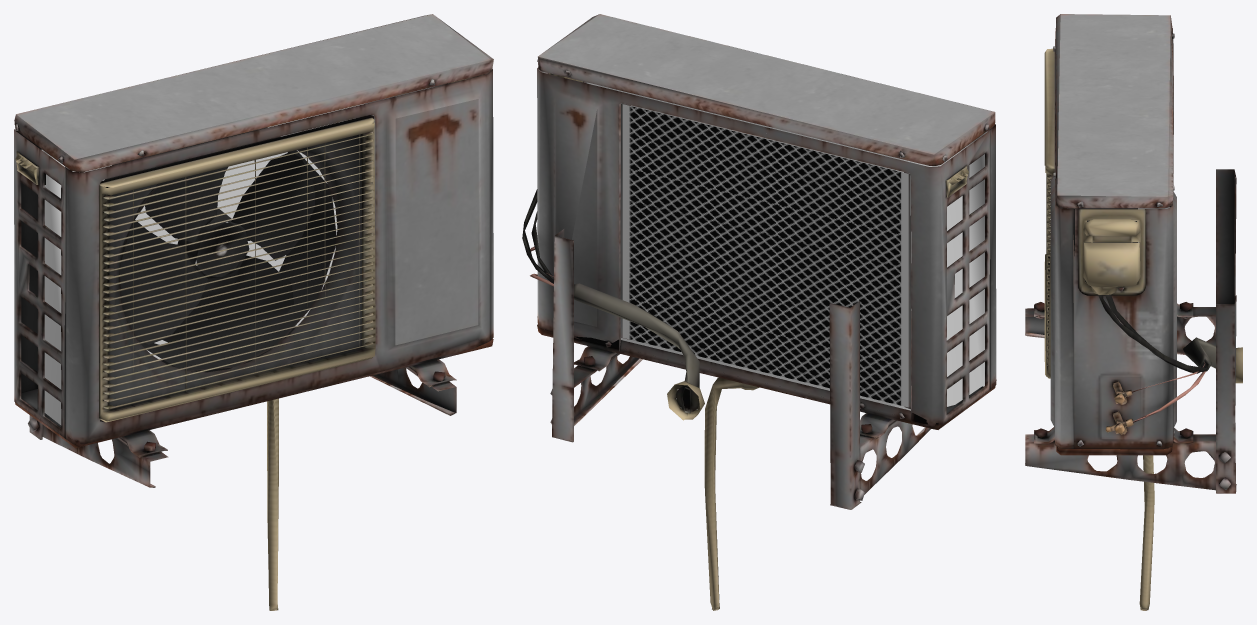
File: exterior_aircon_unit.gltf
3 views of the same model, side by side, from view 1: azimuth 30°, elevation 25°; view 2: azimuth 150°, elevation 25°; view 3: azimuth 270°, elevation 25° (orthographic). The views are drawn at different scales.
Parts seen in each view (by area): view 1: exterior_aircon_unit; view 2: exterior_aircon_unit; view 3: exterior_aircon_unit.
Boxes of the visible parts, box(x1,y1,x2,y2) form: exterior_aircon_unit: box(14, 14, 493, 610); exterior_aircon_unit: box(522, 14, 996, 610); exterior_aircon_unit: box(1025, 14, 1242, 610).
Bounding box in the file's own units: 0.8001 × 0.9276 × 0.3748.
Materials: 1 (1 with a texture image).
